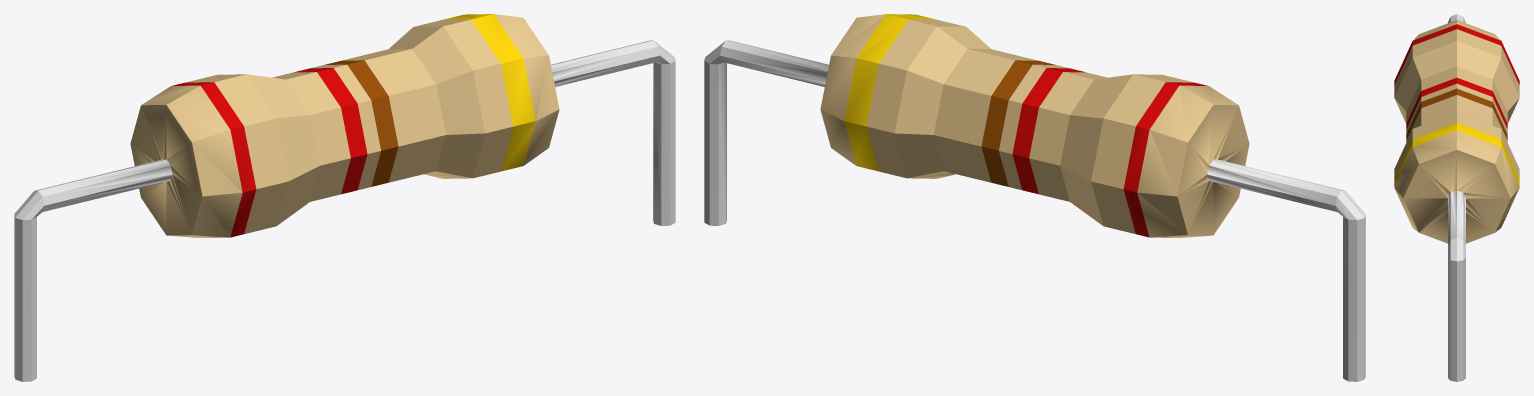
Rendered from resistor.glb.
The picture shows the model from 3 angles, left to right: view 1: azimuth 30°, elevation 25°; view 2: azimuth 150°, elevation 25°; view 3: azimuth 270°, elevation 25°; orthographic projection. The views are drawn at different scales.
Parts seen in each view (by area): view 1: Resistor_4Band_006; view 2: Resistor_4Band_006; view 3: Resistor_4Band_006.
Boxes of the visible parts, x1=… form: Resistor_4Band_006: x1=14, y1=14, x2=675, y2=381; Resistor_4Band_006: x1=704, y1=14, x2=1365, y2=381; Resistor_4Band_006: x1=1394, y1=14, x2=1519, y2=381.
Size of the model in its own units: 0.9382 by 0.3385 by 0.2075.
